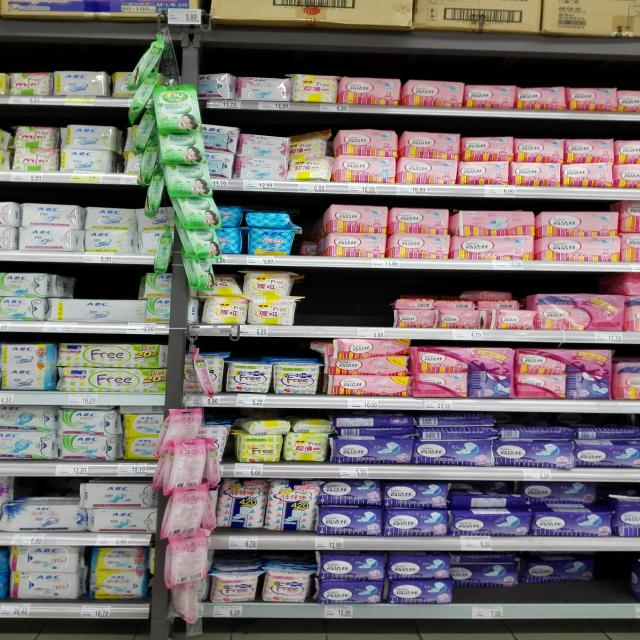unorganised: (451, 551, 518, 586), (521, 551, 594, 580), (314, 338, 414, 356), (449, 490, 533, 510), (233, 414, 296, 436), (192, 126, 241, 152), (485, 308, 540, 331), (290, 156, 333, 184), (288, 136, 332, 160), (288, 415, 336, 433), (460, 287, 516, 301), (298, 243, 320, 256)
